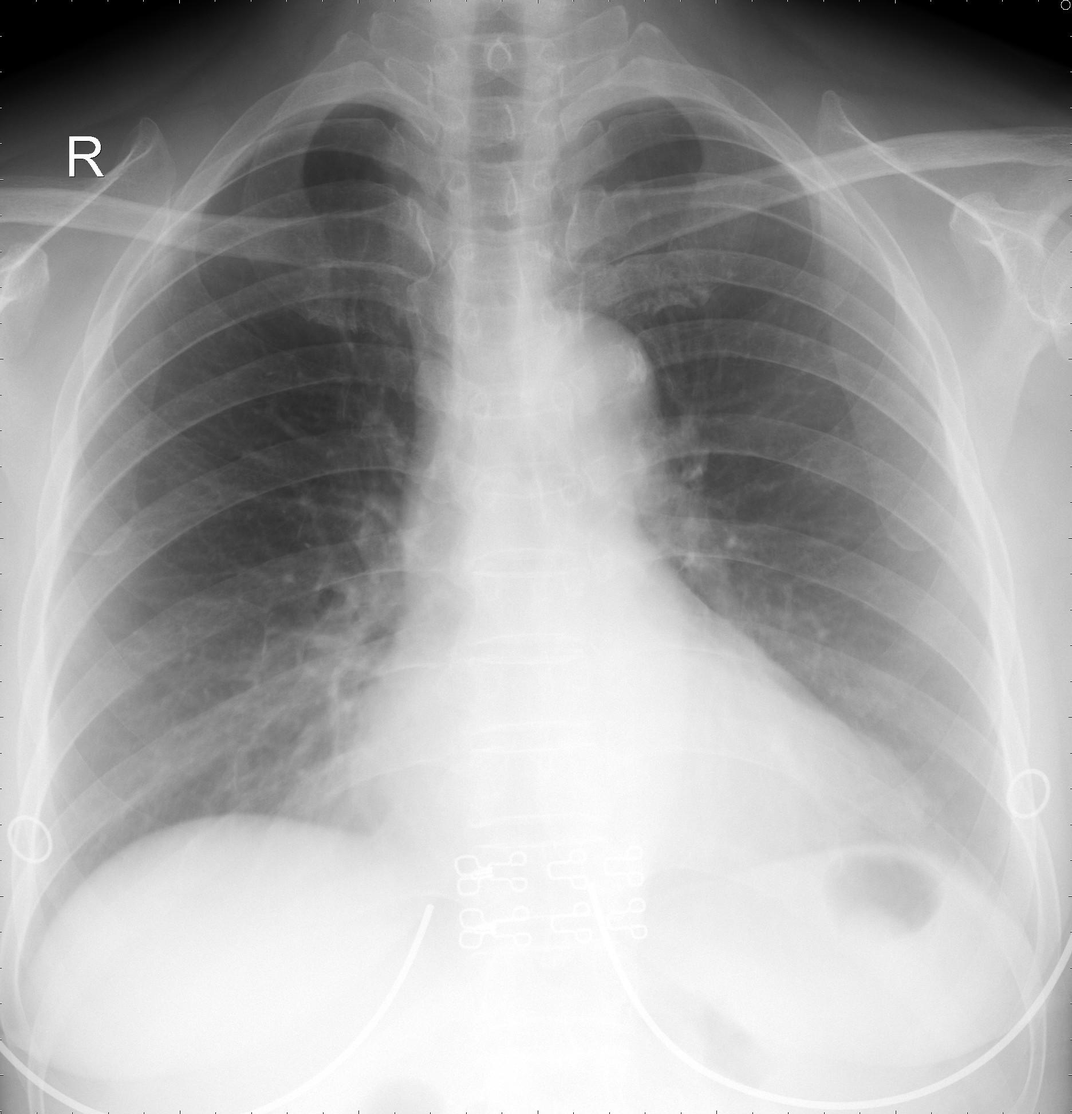Aortic enlargement: (514, 308, 664, 493)
Cardiomegaly: (341, 695, 932, 871)
